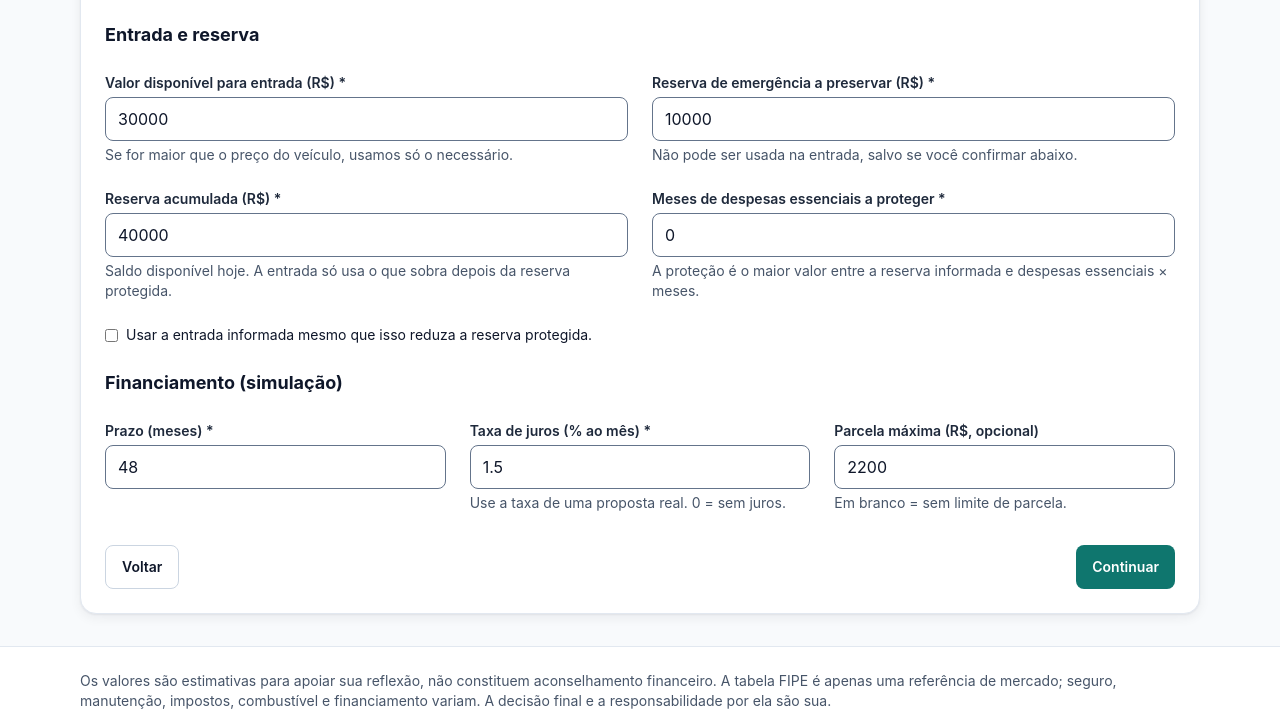
Scenario: falhas da API FIPE › limite de consultas (HTTP 429): mensagem amigável e nova tentativa
The width and height of the screenshot is (1280, 719).
Earlier steps of the test are not shown.
(page scrolled)
Click the button "Continuar" at (1126, 567), box x1=1076 y1=545 x2=1175 y2=589
(page scrolled)
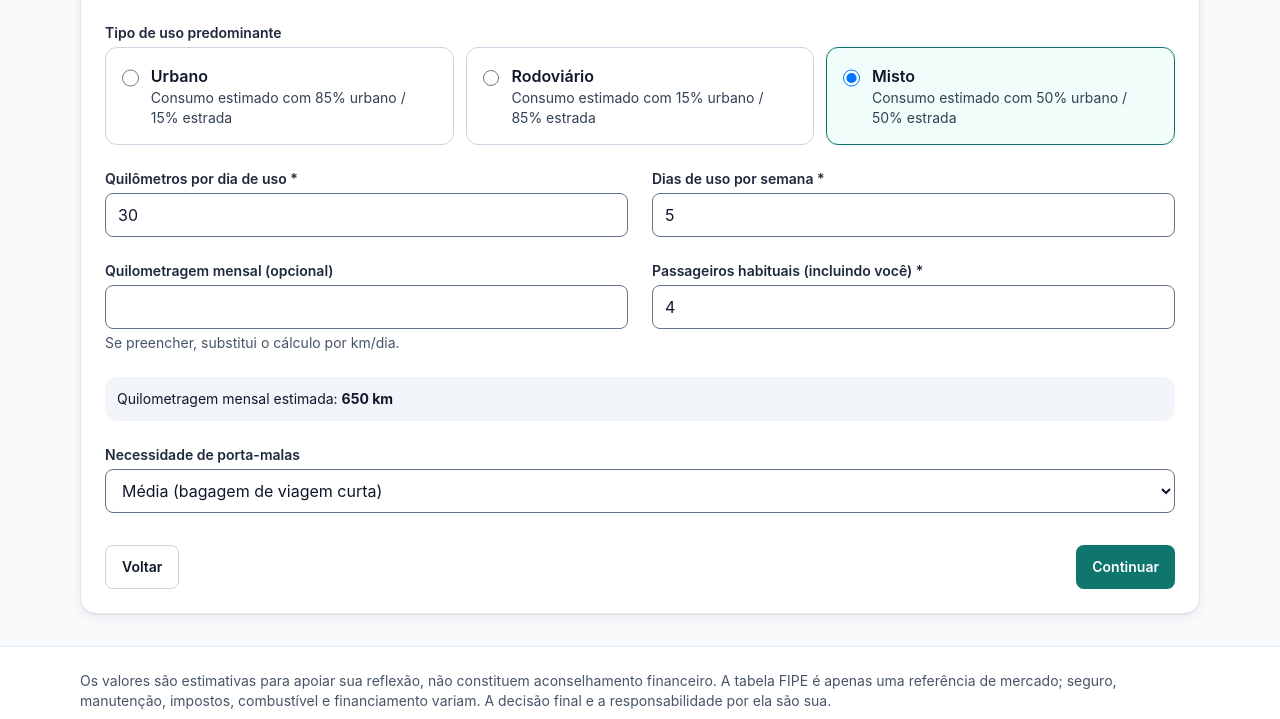
Click the button "Continuar" at (1126, 567), box x1=1076 y1=545 x2=1175 y2=589
(page scrolled)
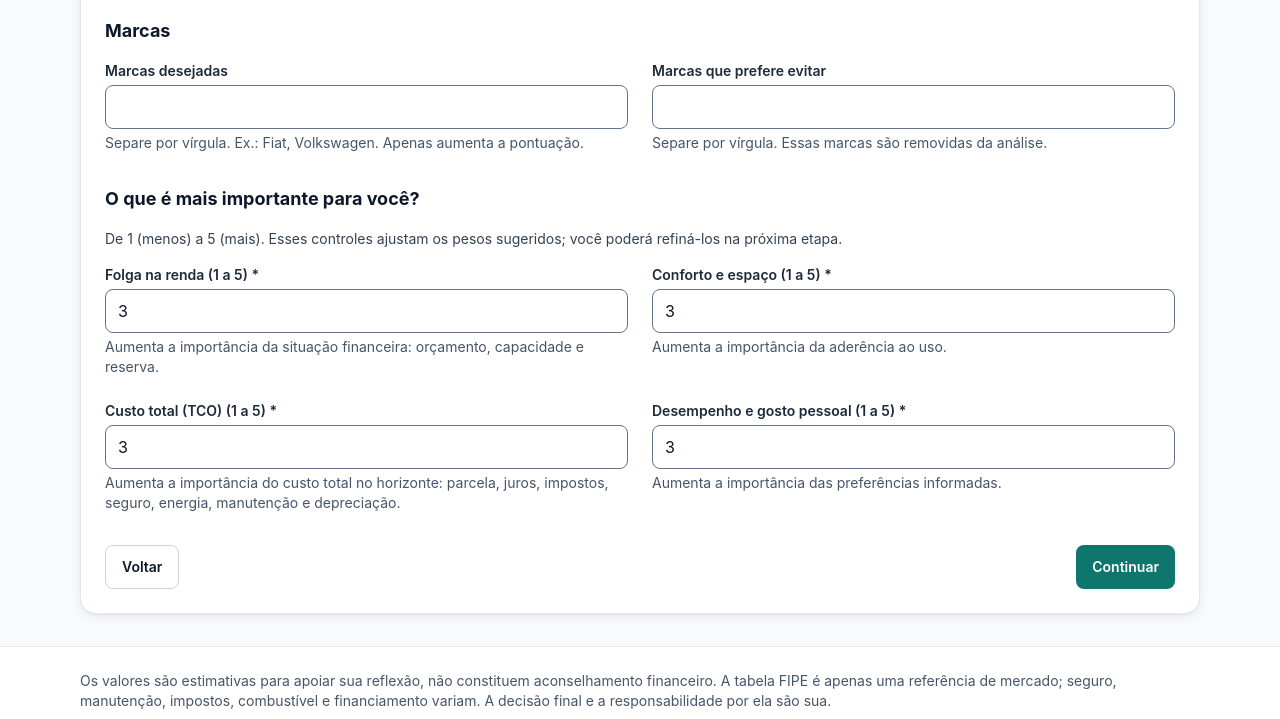
Click the button "Continuar" at (1126, 567), box x1=1076 y1=545 x2=1175 y2=589
(page scrolled)
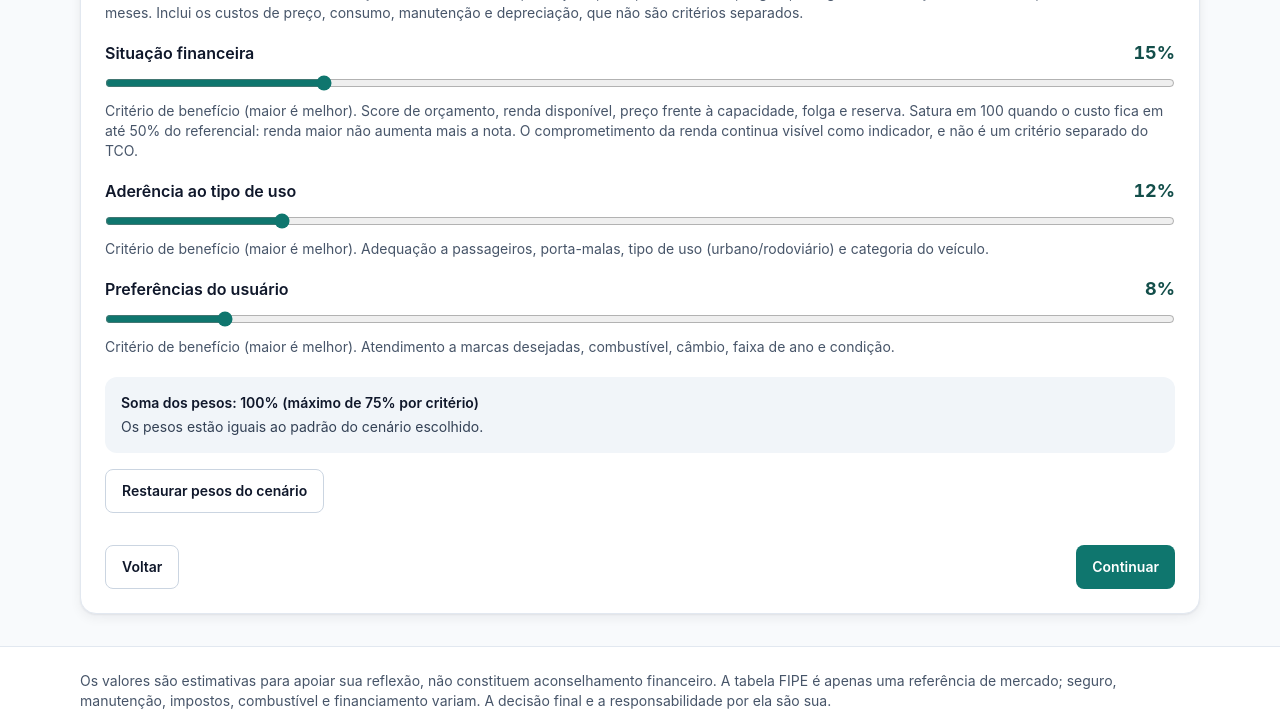
Click the button "Continuar" at (1126, 567), box x1=1076 y1=545 x2=1175 y2=589
(page scrolled)
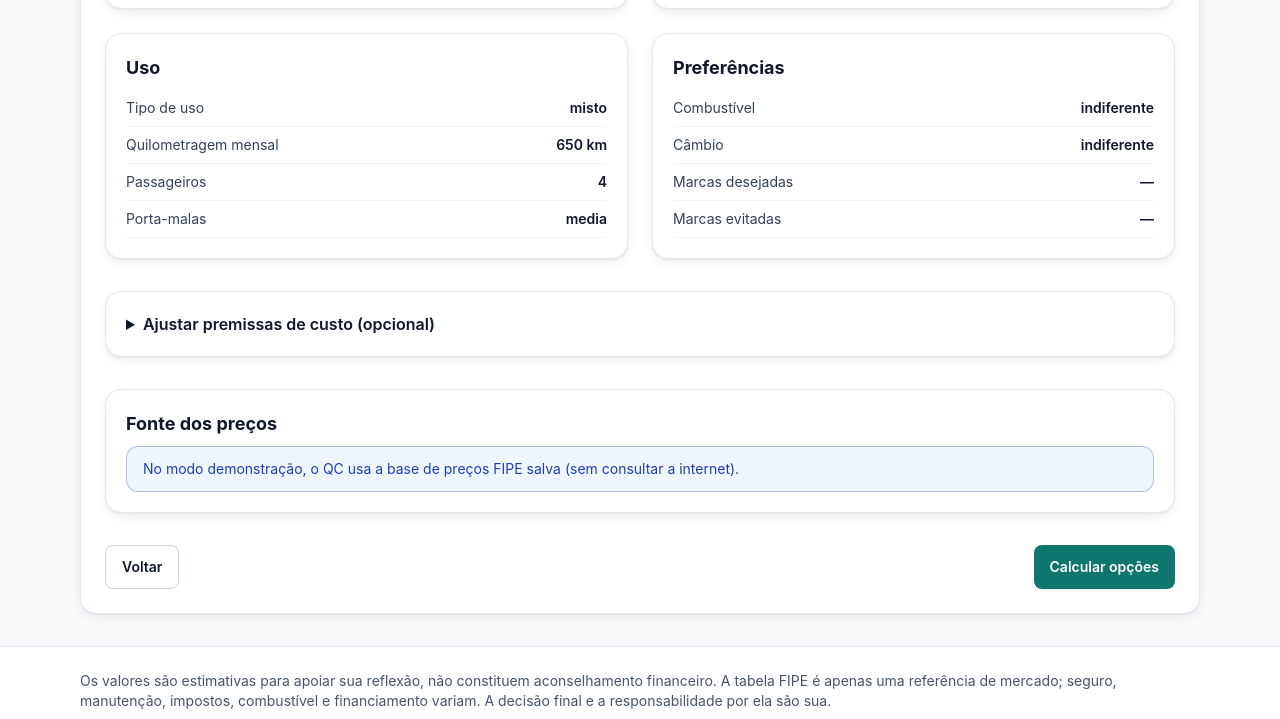
Click the button "Calcular opções" at (1104, 567), box x1=1034 y1=545 x2=1175 y2=589
(page scrolled)
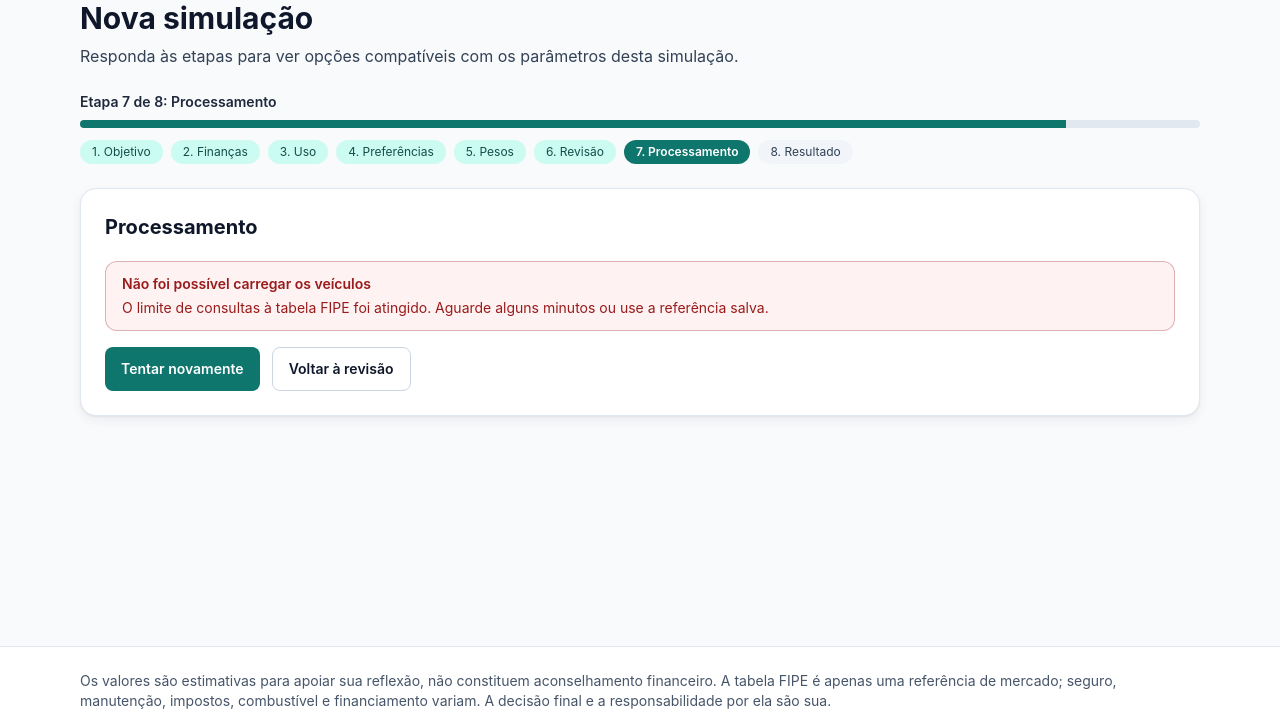
Check: the text "limite de consultas à tabela FIPE foi atingido" is shown, box x1=122 y1=299 x2=769 y2=316
Click the button "Tentar novamente" at (182, 369), box x1=105 y1=347 x2=260 y2=391
(page scrolled)
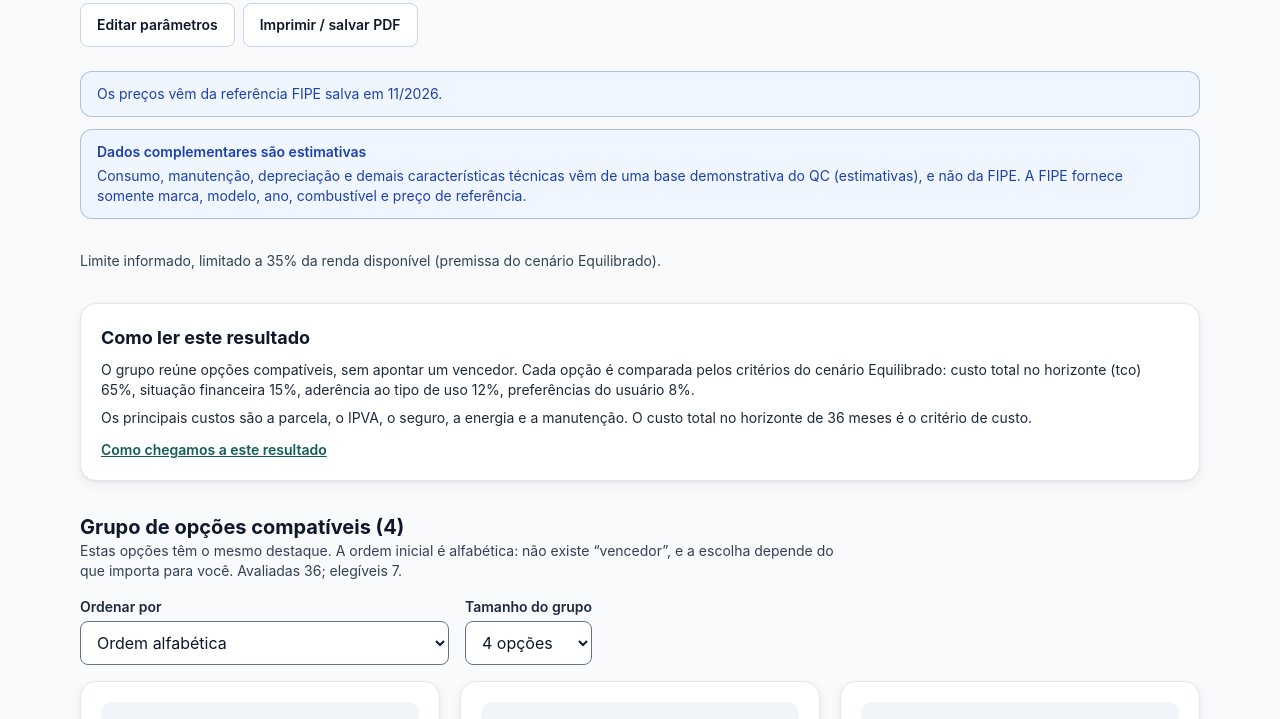
Check: the heading "Grupo de opções compatíveis (4)" is shown, box x1=80 y1=515 x2=404 y2=539
